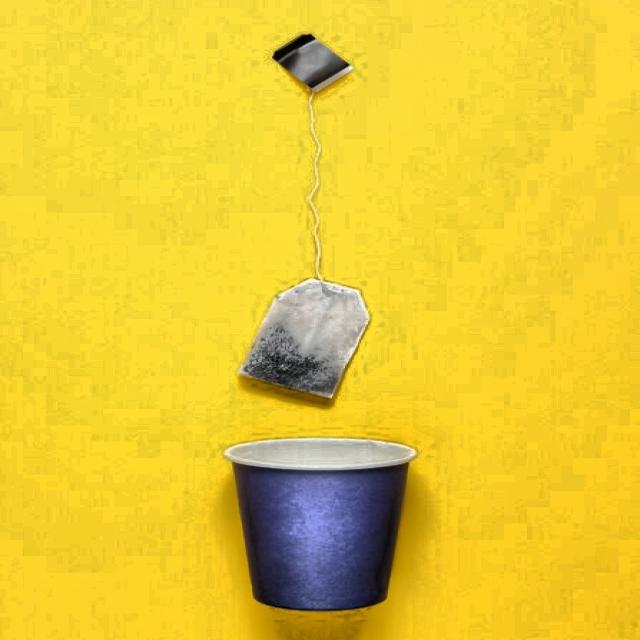Cup: (210, 423, 430, 618)
